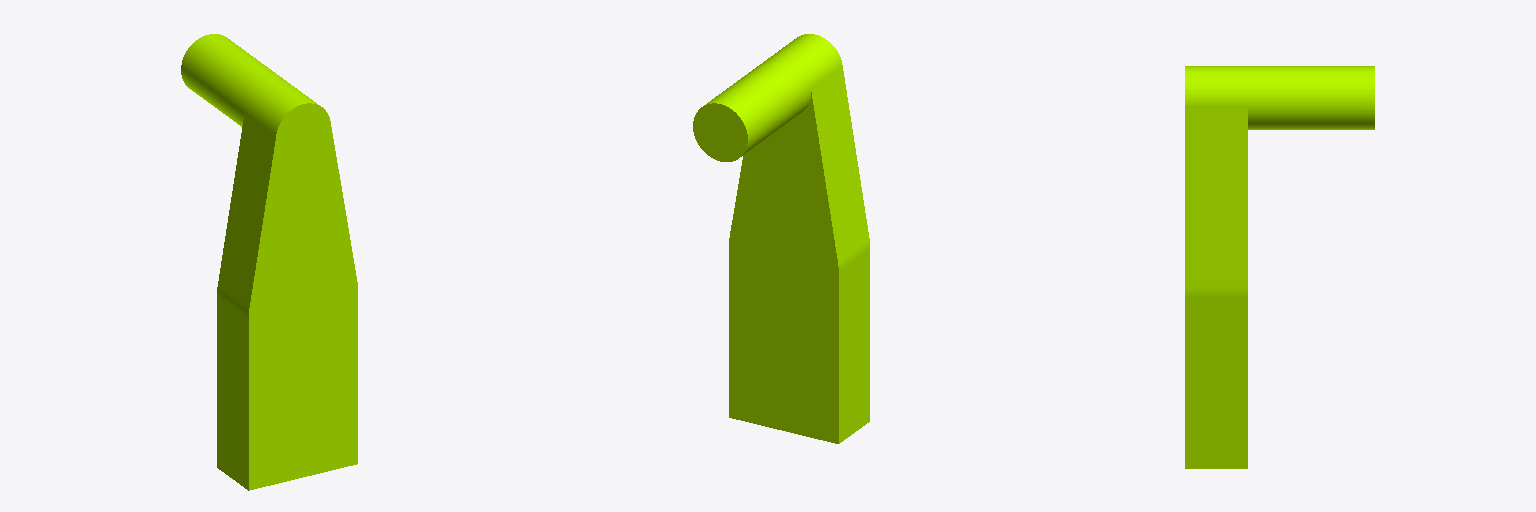
Rendered from Wrist.obj.
The picture shows the model from 3 angles: view 1: azimuth 30°, elevation 25°; view 2: azimuth 150°, elevation 25°; view 3: azimuth 270°, elevation 25°; orthographic projection.
Parts seen in each view (by area): view 1: Wrist; view 2: Wrist; view 3: Wrist.
Part boxes in pixels (bbox=[...]): Wrist: bbox=[181, 34, 357, 490]; Wrist: bbox=[693, 34, 869, 443]; Wrist: bbox=[1185, 66, 1374, 468].
Bounding box in the file's own units: 0.2 × 0.65 × 0.3.